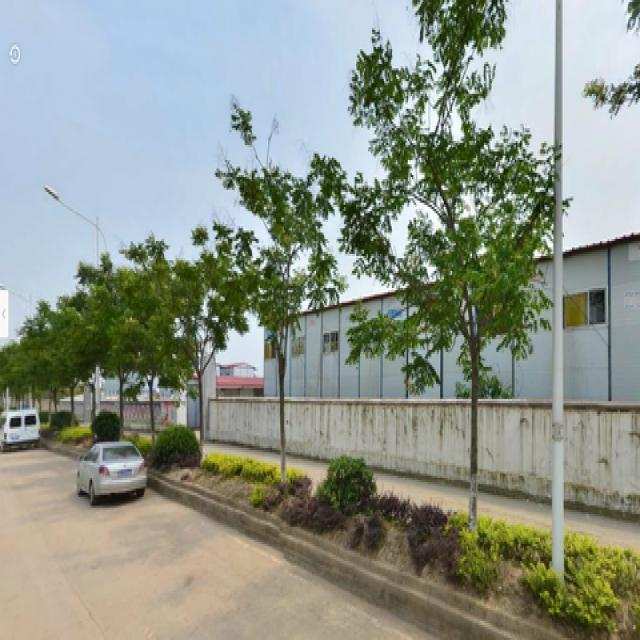koel: (367, 43, 537, 529), (241, 111, 339, 516), (156, 243, 231, 450), (108, 256, 155, 431)
